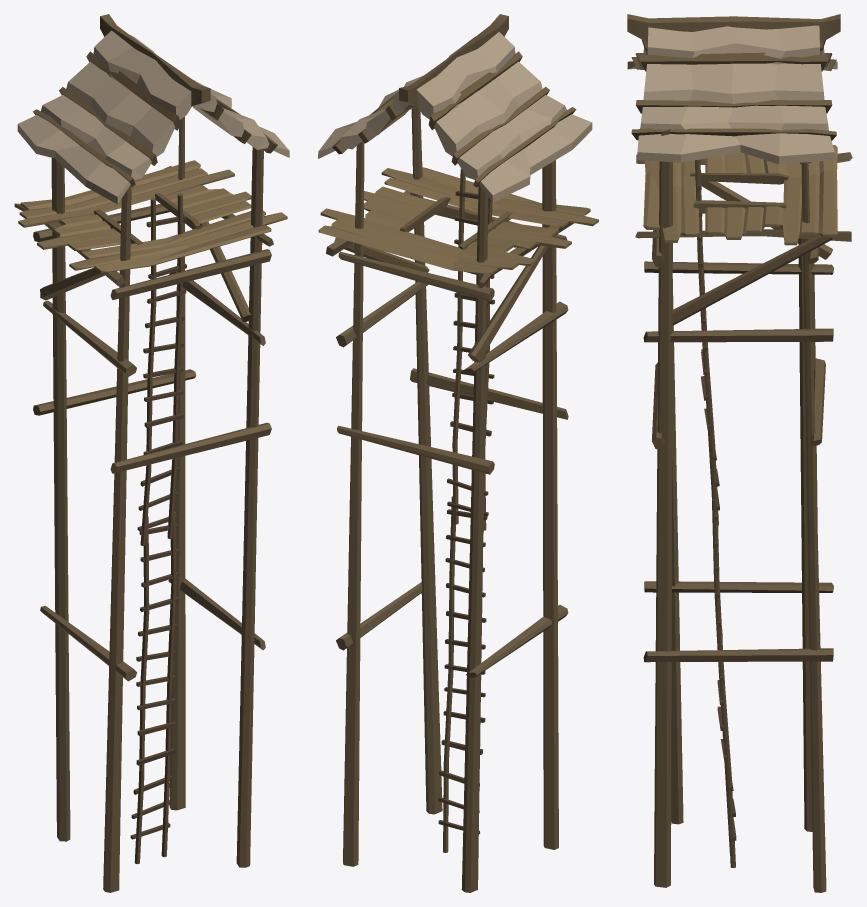
File: SM_Bld_Rickety_Tower_03.fbx
The picture shows the model from 3 angles, left to right: view 1: azimuth 30°, elevation 25°; view 2: azimuth 150°, elevation 25°; view 3: azimuth 270°, elevation 25°; orthographic projection. The views are drawn at different scales.
Parts seen in each view (by area): view 1: SM_Bld_Rickety_Tower_03; view 2: SM_Bld_Rickety_Tower_03; view 3: SM_Bld_Rickety_Tower_03.
Boxes of the visible parts, x1=… form: SM_Bld_Rickety_Tower_03: x1=14, y1=14, x2=289, y2=892; SM_Bld_Rickety_Tower_03: x1=318, y1=14, x2=598, y2=892; SM_Bld_Rickety_Tower_03: x1=627, y1=14, x2=852, y2=892.
Bounding box in the file's own units: 4.06 × 14.26 × 3.44.
